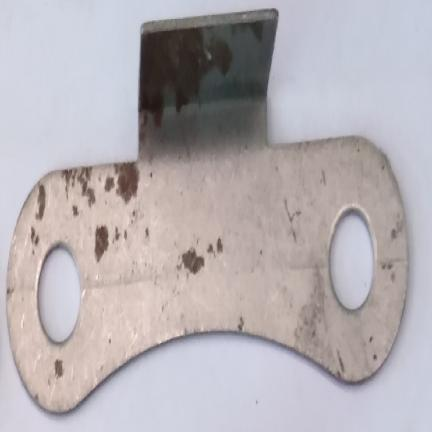besi_tidak_karat: (6, 10, 408, 411)
karat: (139, 15, 233, 126), (225, 46, 271, 97), (117, 165, 139, 202), (95, 225, 108, 261), (182, 248, 200, 273), (82, 181, 95, 207), (36, 184, 45, 219), (55, 360, 62, 377), (105, 177, 114, 190), (217, 238, 222, 251)
